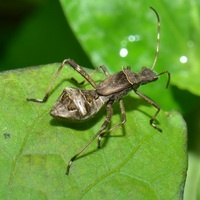insect: (27, 7, 169, 174)
